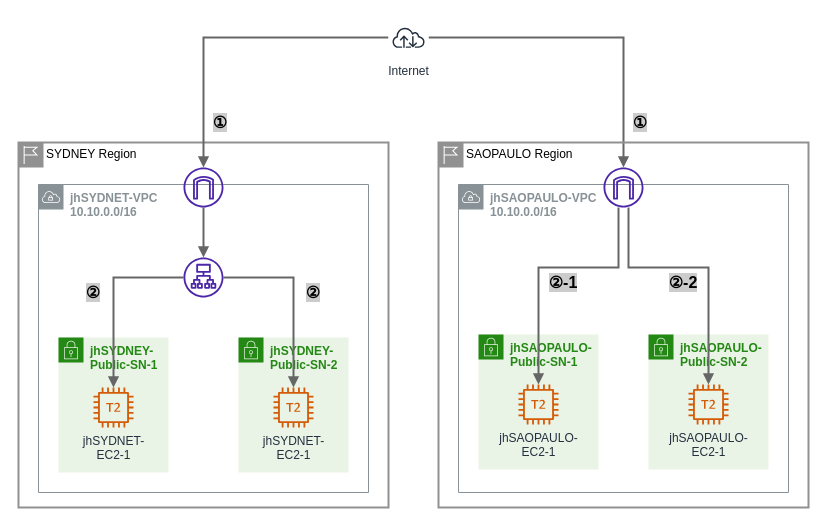
This 826x526 diagram has some shape labels left out. Here are the shapes that lost their labels. From the top down, the centre of each, then its label:
[203,187]: jhSYDNET-IGW
[623,187]: jhSAOPAULO-IGW
[203,277]: jhSYDNET-ALB
